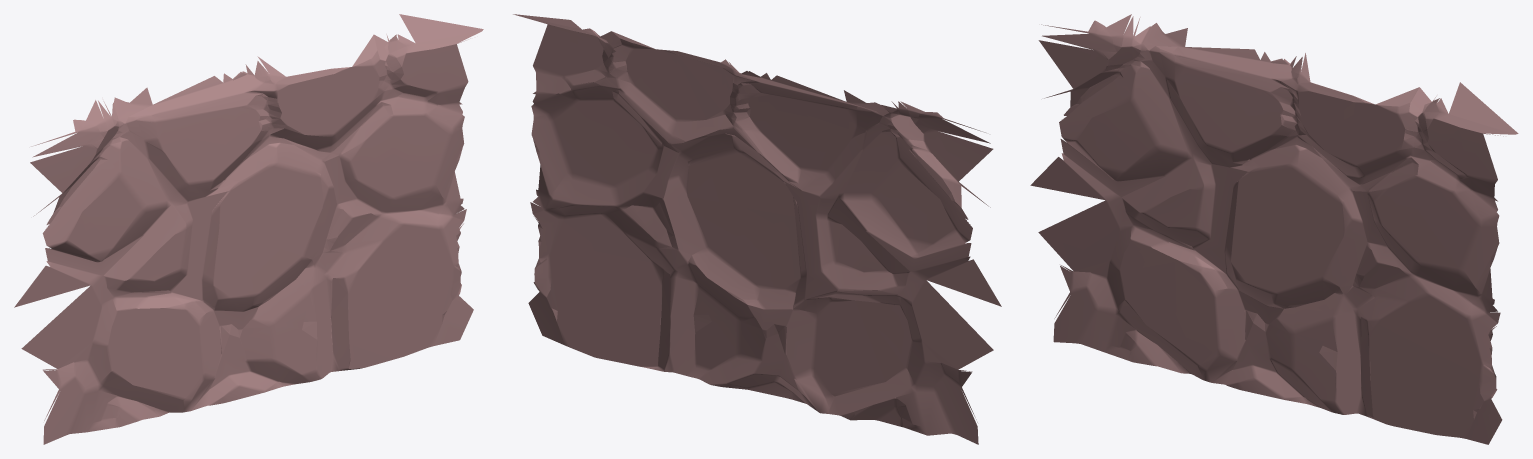
File: plateau.fbx_Rock_Plateau_006LODs.fbx
The picture shows the model from 3 angles, left to right: view 1: azimuth 30°, elevation 25°; view 2: azimuth 150°, elevation 25°; view 3: azimuth 330°, elevation 25°; orthographic projection. The views are drawn at different scales.
Parts seen in each view (by area): view 1: Rock Plateau.006_LOD0; view 2: Rock Plateau.006_LOD0; view 3: Rock Plateau.006_LOD0.
Part boxes in pixels (<box>): Rock Plateau.006_LOD0: <box>14,14,483,444</box>; Rock Plateau.006_LOD0: <box>513,14,1001,444</box>; Rock Plateau.006_LOD0: <box>1030,14,1518,444</box>.
Size of what is drawn, in the model's own units: 3797 by 2569 by 265.
